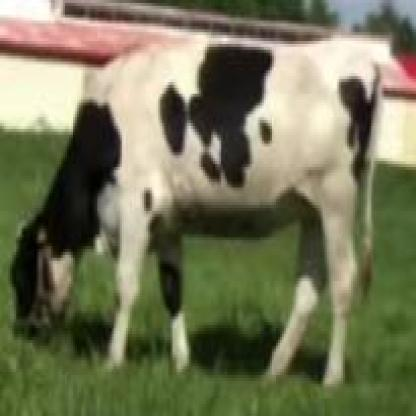cow: (8, 37, 382, 388)
